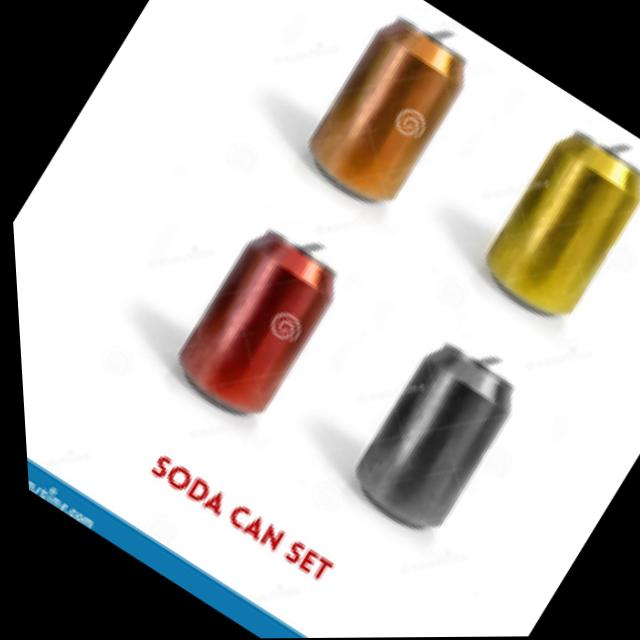aluminum_soda_cans: (284, 0, 495, 228), (331, 325, 540, 549), (153, 210, 356, 431), (460, 111, 640, 335)
